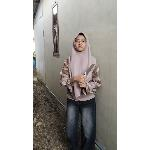Pisau: (79, 61, 99, 81)
